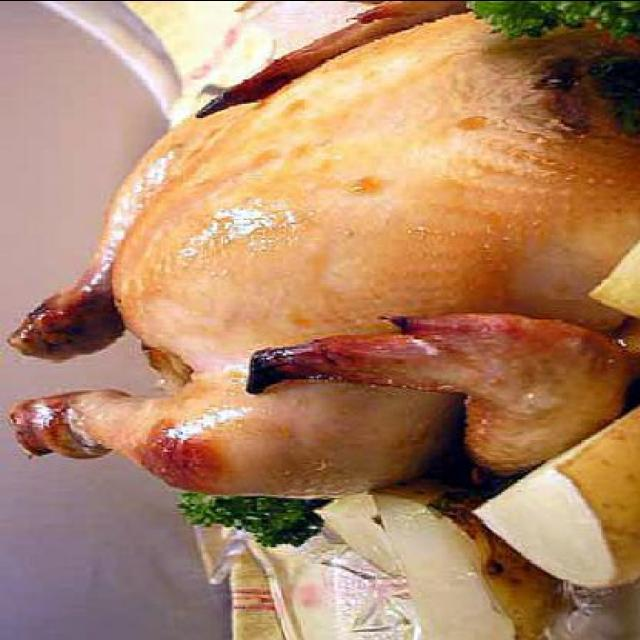Chicken roast: (32, 12, 626, 500)
